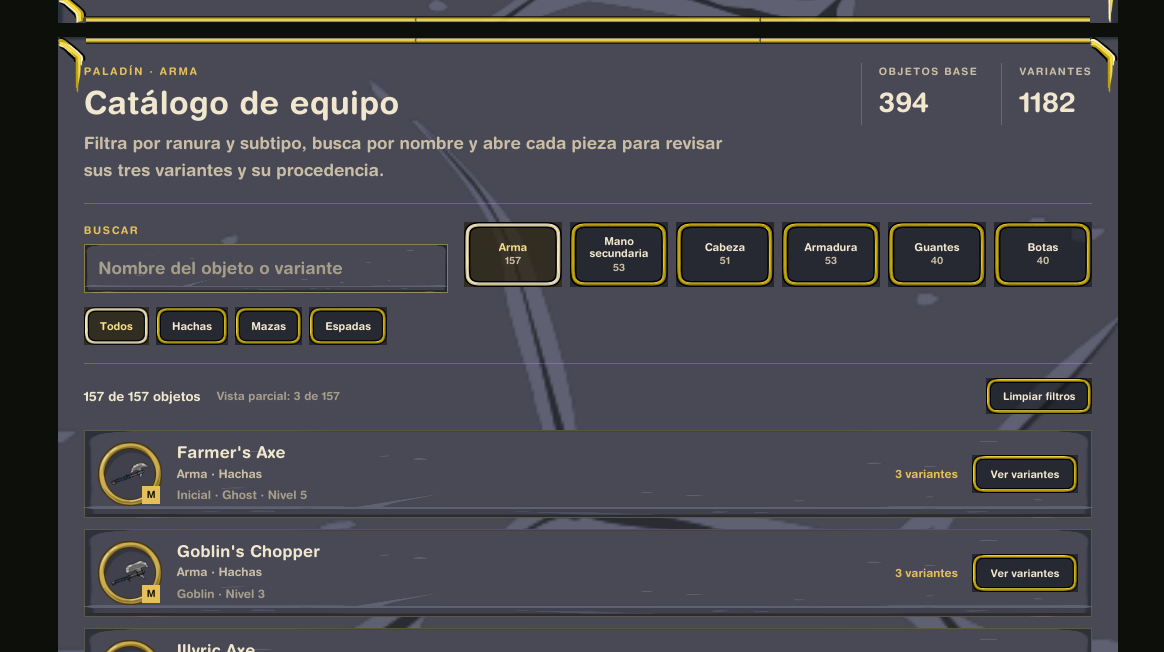
ArmoryPage › filters by search without losing the selected class
This screenshot has width=1164, height=652.
(page scrolled)
In the search field labelled "Buscar": (266, 268) [84,244,448,293], type "goblin"
(page scrolled)
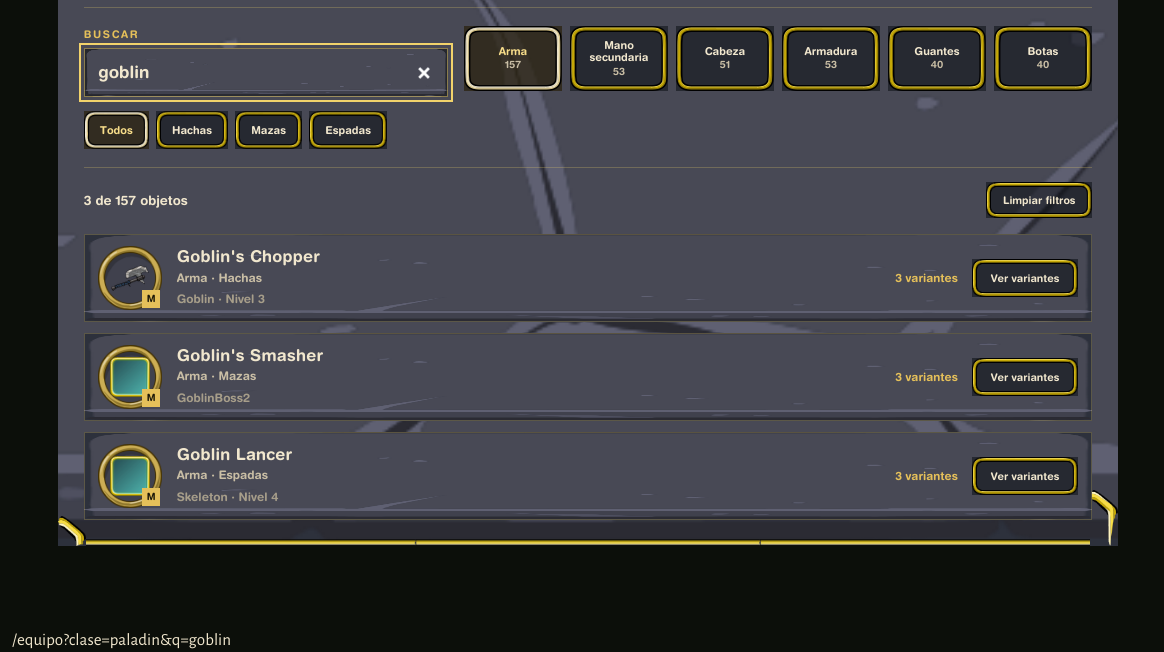
Expected: the heading "Goblin's Chopper" is shown, [177,246,320,266]
Result: the heading "Farmer's Axe" is gone
Result: the text with test id "location" reads "/equipo?clase=paladin&q=goblin" at [12,631,231,648]
